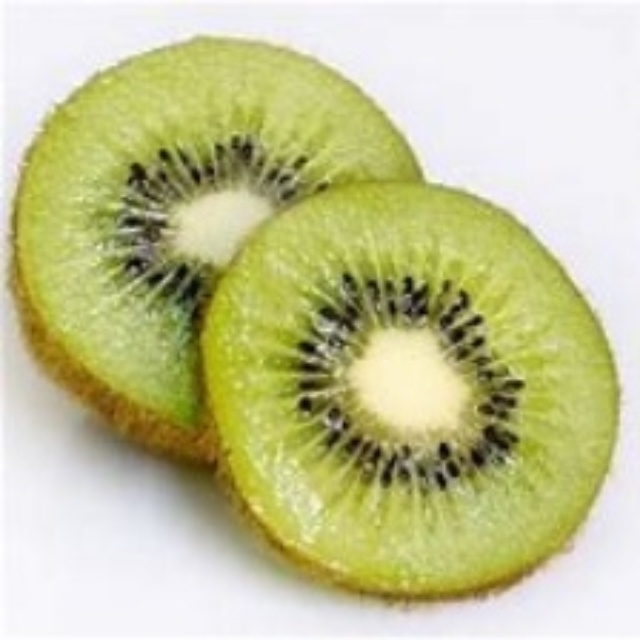kiwi: (3, 37, 426, 465), (214, 180, 622, 609)
